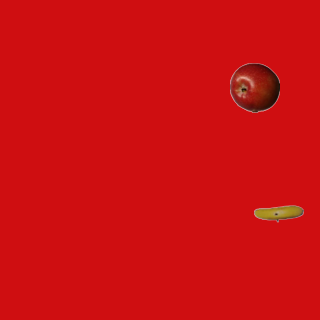Apple Braeburn: (229, 62, 279, 112)
Banana: (253, 188, 303, 238)
